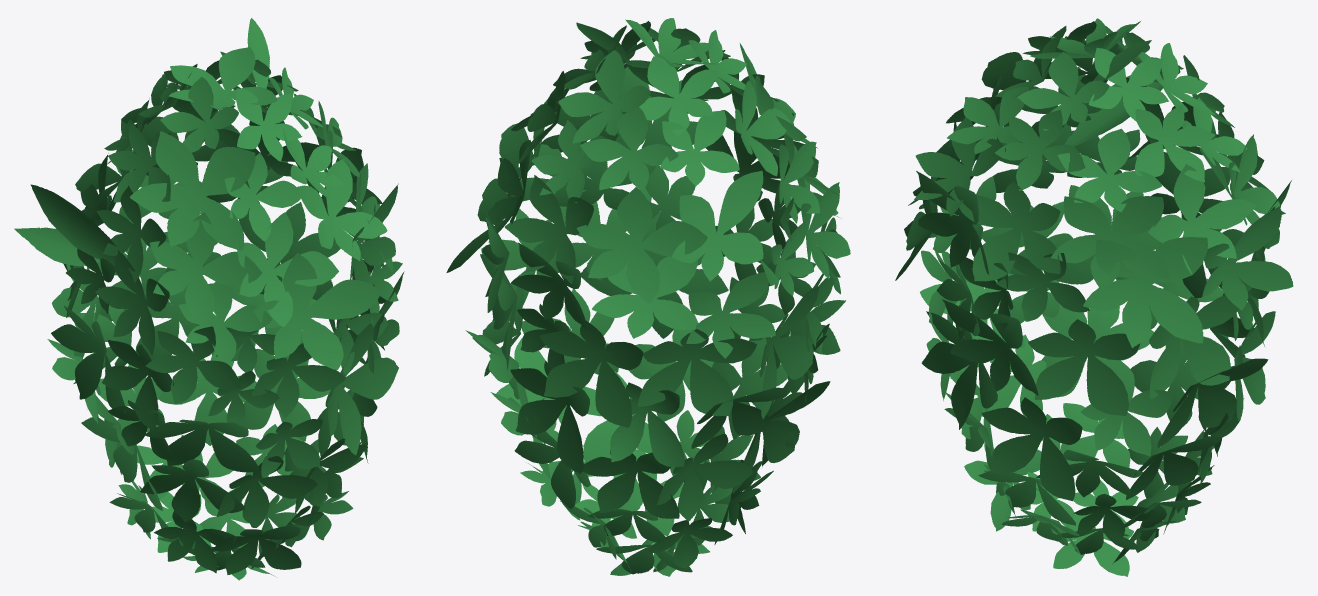
Rendered from Map01_Flower03.FBX.
3 views of the same model, side by side, from view 1: azimuth 30°, elevation 25°; view 2: azimuth 150°, elevation 25°; view 3: azimuth 270°, elevation 25° (orthographic). The views are drawn at different scales.
Parts seen in each view (by area): view 1: Map01_Flower03; view 2: Map01_Flower03; view 3: Map01_Flower03.
Boxes of the visible parts, x1=… form: Map01_Flower03: x1=14, y1=18, x2=404, y2=580; Map01_Flower03: x1=446, y1=18, x2=850, y2=576; Map01_Flower03: x1=895, y1=18, x2=1293, y2=576.
Bounding box in the file's own units: 109 × 175 × 119.
Materials: 1 (1 with a texture image).
